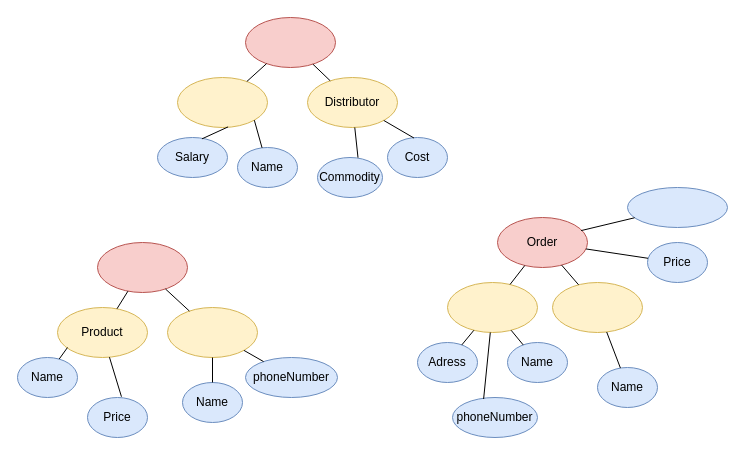
This 745x455 diagram has some shape labels left out. The box of each missing label's shape, as (x1, y1, x2, y2) in pixels:
Client: (446, 282, 538, 332)
Delivery: (552, 282, 642, 332)
Employee: (176, 76, 268, 128)
isDelivered: (626, 186, 728, 228)
Manager: (244, 16, 336, 68)
Sale: (96, 242, 188, 292)
Seller: (166, 306, 258, 358)
